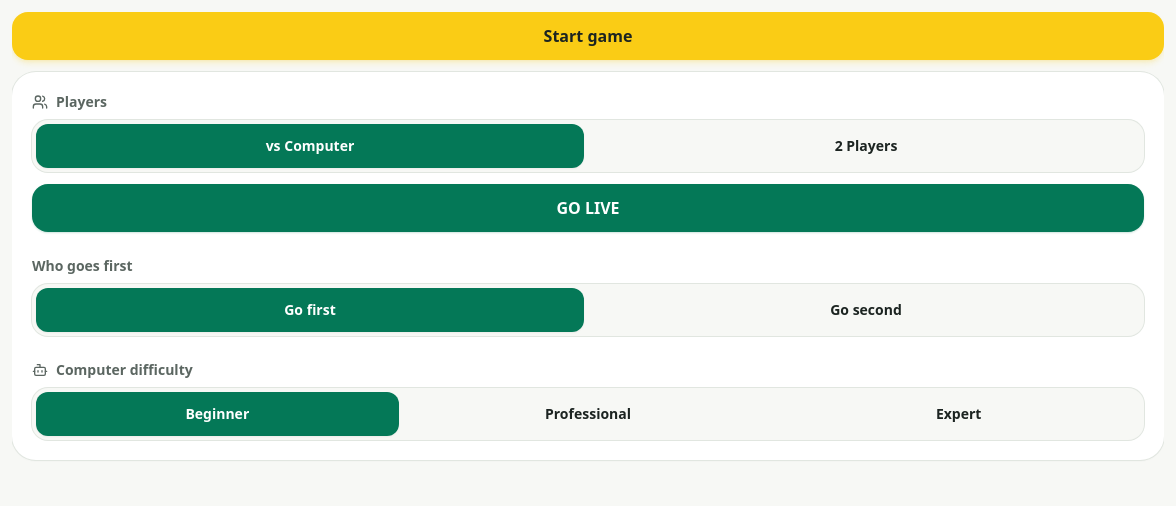
Scenario: game screens › shows the online placeholder from shared pre-game setup
Click the button with aria-label "GO LIVE — online play".
click(588, 208)  # box [32, 184, 1144, 232]
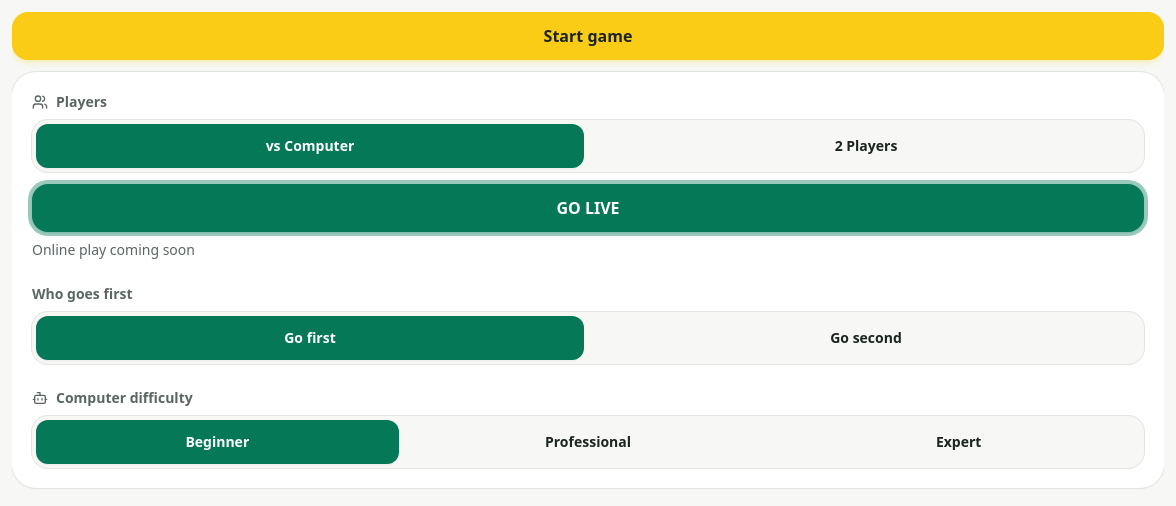
Result: the message reads "Online play coming soon" at [32, 240, 195, 259]
